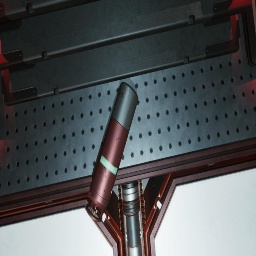NitrogenTank ,: (86, 82, 138, 222)
